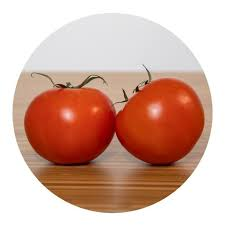tomato: (113, 81, 206, 163), (24, 84, 115, 164)
